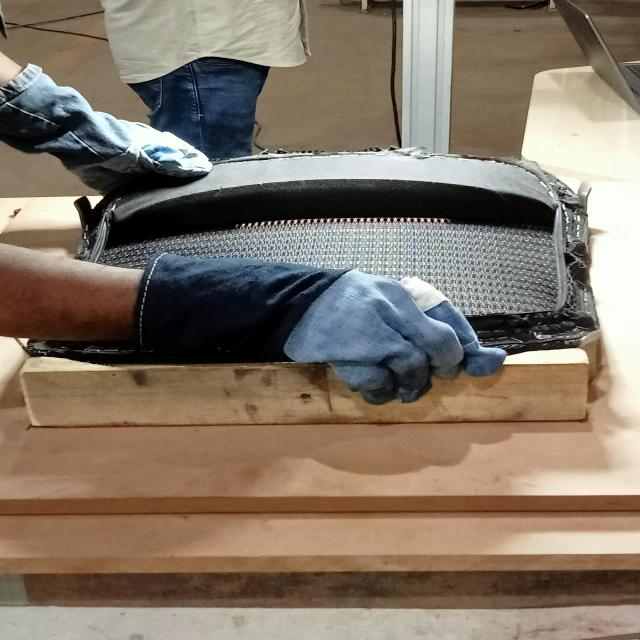Gloves-Detection: (146, 254, 488, 396), (2, 54, 218, 184)
